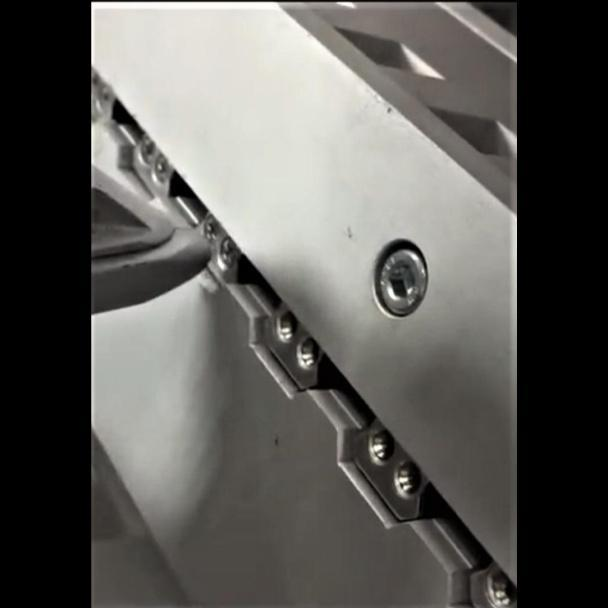hole: (392, 455, 425, 500), (366, 425, 395, 465), (294, 333, 324, 369), (272, 307, 299, 343)
